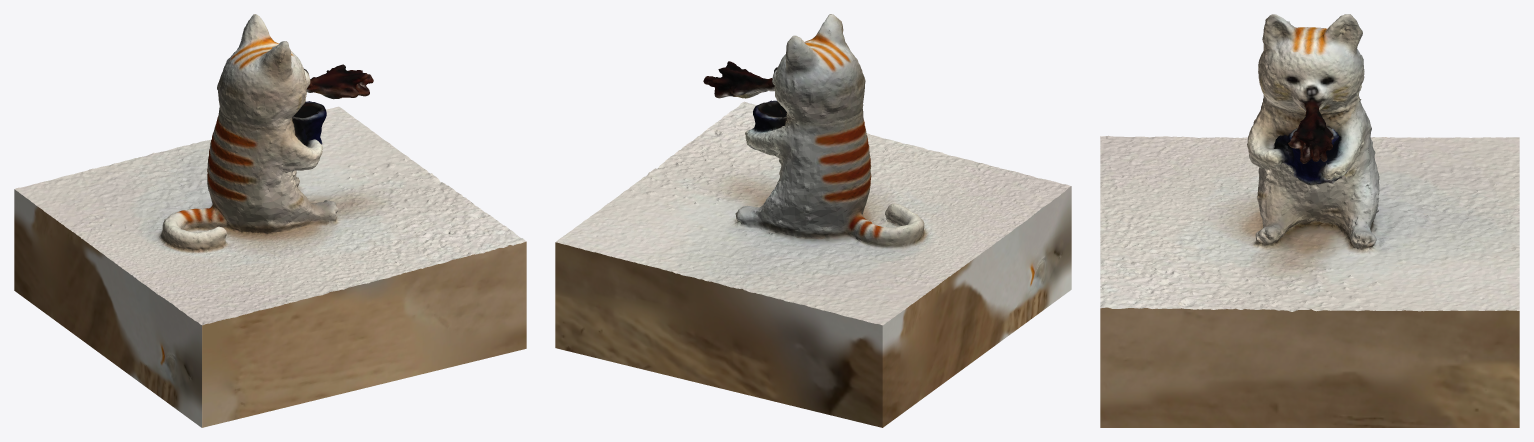
The model's file is cat.Bo9Ye1L9.glb.
The picture shows the model from 3 angles, left to right: view 1: azimuth 30°, elevation 25°; view 2: azimuth 150°, elevation 25°; view 3: azimuth 270°, elevation 25°; orthographic projection. The views are drawn at different scales.
Parts seen in each view (by area): view 1: defaultobject; view 2: defaultobject; view 3: defaultobject.
Boxes of the visible parts, x1,y1,x2,y2 form: defaultobject: [14, 14, 526, 427]; defaultobject: [555, 14, 1071, 427]; defaultobject: [1100, 14, 1519, 427].
Bounding box in the file's own units: 0.2 × 0.1718 × 0.2.
Materials: 1 (1 with a texture image).
